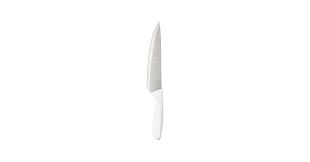Knife: (145, 20, 163, 139)
